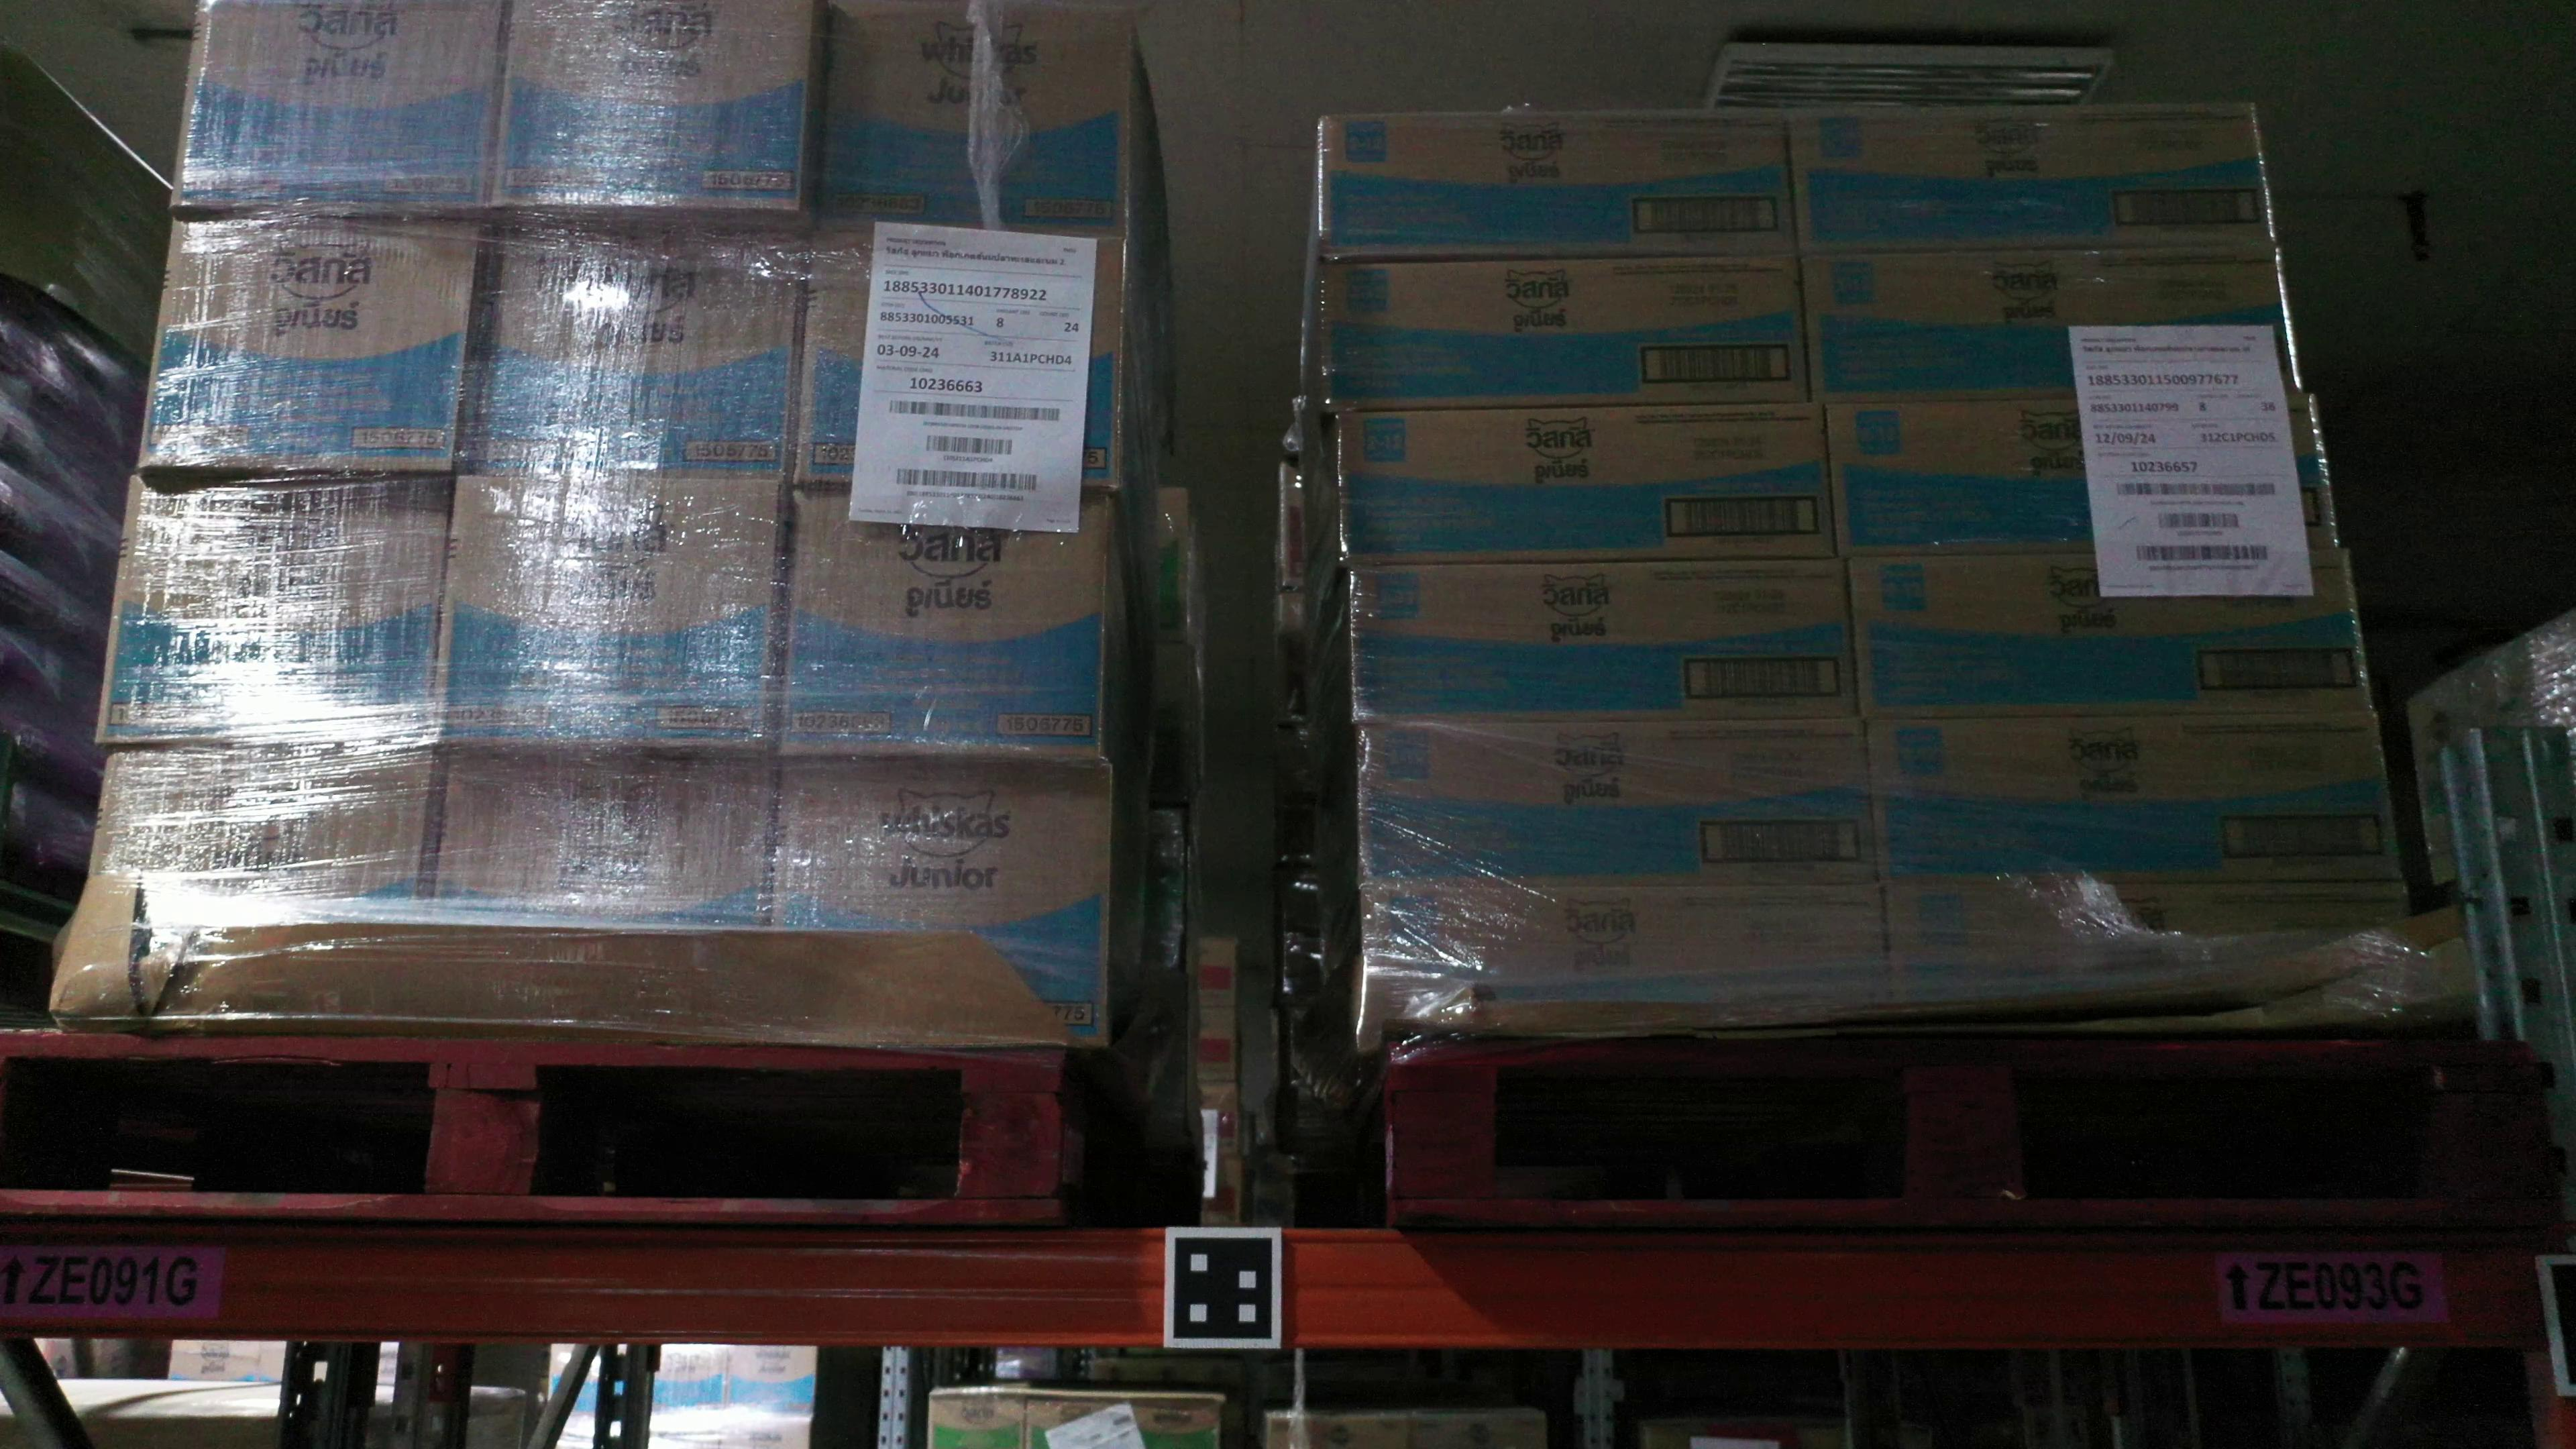-: (94, 469, 455, 743), (426, 474, 780, 754), (768, 761, 1111, 1047), (1359, 715, 1881, 895), (771, 485, 1104, 763), (791, 226, 1129, 497), (1865, 715, 2401, 883), (136, 212, 481, 472), (1845, 554, 2378, 718), (467, 226, 807, 481), (1350, 559, 1861, 725), (1824, 396, 2341, 561), (1336, 409, 1838, 573), (1799, 246, 2302, 407), (1323, 255, 1812, 412), (1782, 103, 2273, 255), (1322, 110, 1803, 262), (172, 0, 502, 218), (430, 748, 778, 934), (1879, 883, 2413, 1003), (90, 747, 439, 925), (1362, 886, 1895, 1003)
